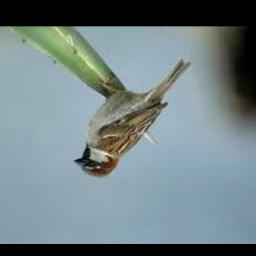Sparrow: (75, 60, 191, 179)
